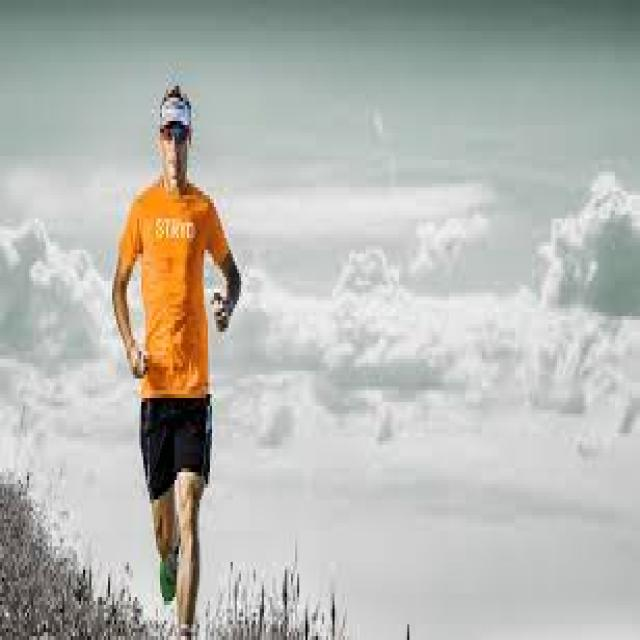running: (111, 87, 241, 640)
